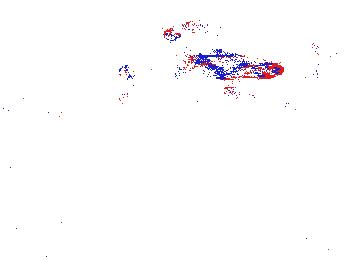X-ray fish: (72, 145, 144, 181), (114, 65, 134, 109)
red belly glassfish: (181, 17, 226, 36), (161, 25, 184, 43)
redtail glassfish: (182, 47, 285, 82), (223, 83, 305, 123), (114, 51, 186, 90), (272, 57, 326, 86), (311, 41, 346, 76)
